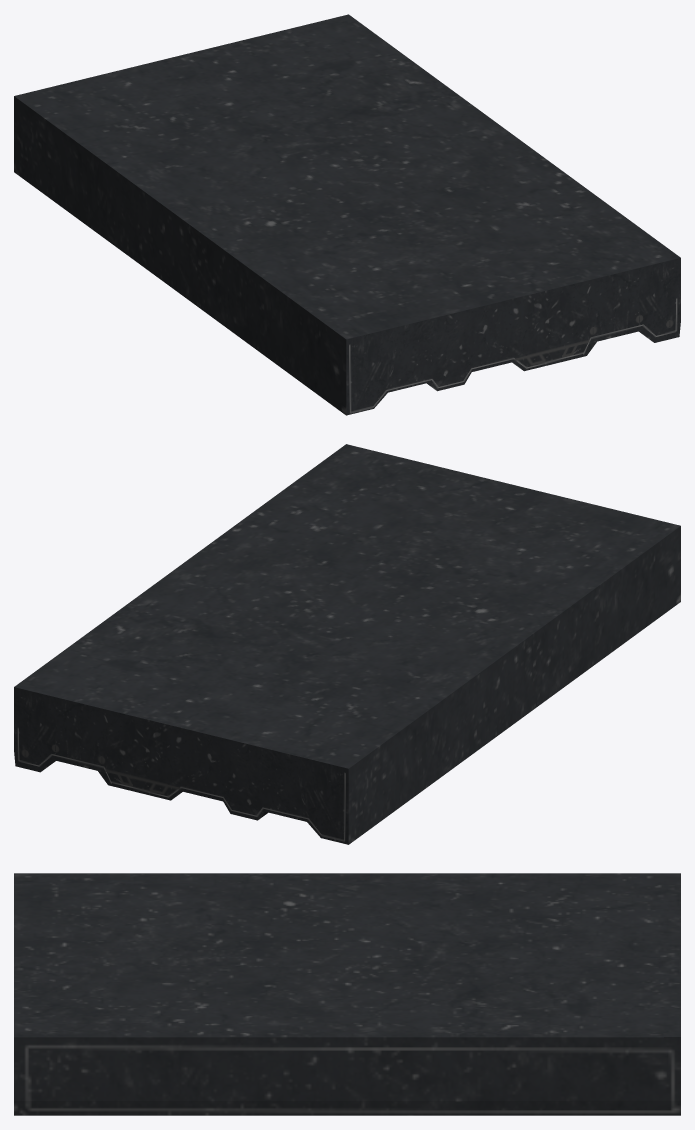
The model's file is 實驗室平台底座1.fbx.
The picture shows the model from 3 angles, top to bottom: view 1: azimuth 30°, elevation 25°; view 2: azimuth 150°, elevation 25°; view 3: azimuth 270°, elevation 25°; orthographic projection.
Parts seen in each view (by area): view 1: 立方體_5; view 2: 立方體_5; view 3: 立方體_5.
Part boxes in pixels (left/top/right/bottom): 立方體_5: left=14, top=14, right=680, bottom=415; 立方體_5: left=14, top=444, right=680, bottom=844; 立方體_5: left=14, top=873, right=680, bottom=1115.
Size of the model in its own units: 476 by 108 by 819.
